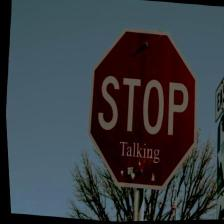Stop: (77, 23, 209, 195)
